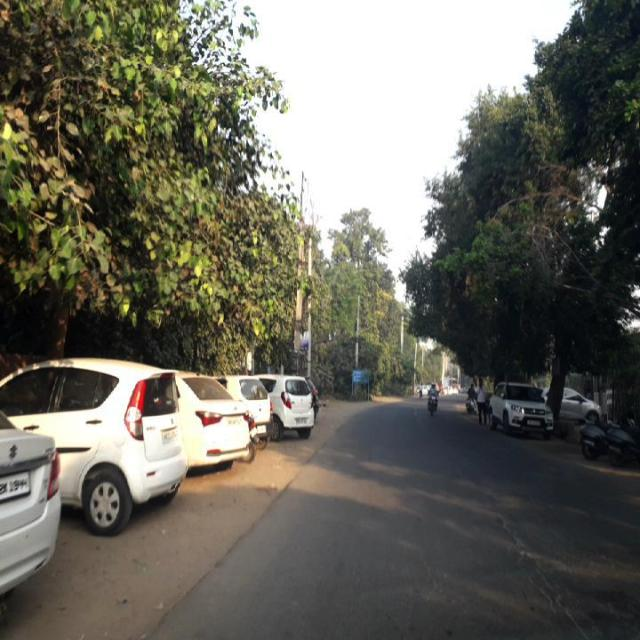crack: (480, 485, 596, 639)
